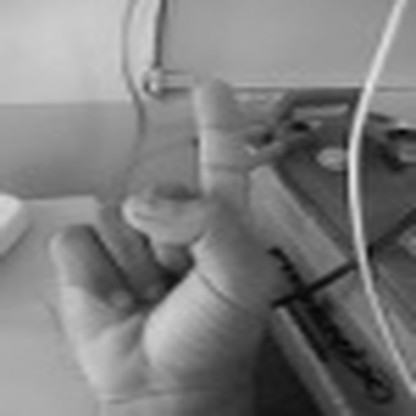d: (44, 66, 270, 410)
